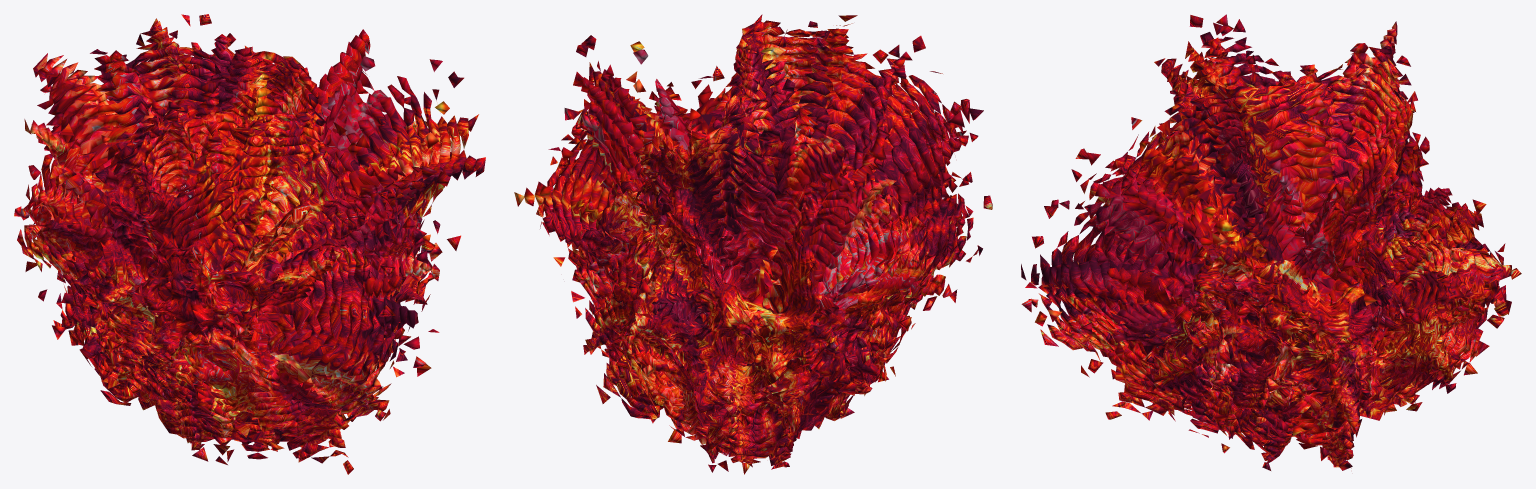
The model's file is Blood2.fbx.
3 renders of one model, left to right at view 1: azimuth 30°, elevation 25°; view 2: azimuth 150°, elevation 25°; view 3: azimuth 270°, elevation 25°, orthographic. The views are drawn at different scales.
Parts seen in each view (by area): view 1: LODGroup_1_MainMesh_13_SubMesh_1, LODGroup_1_MainMesh_12_SubMesh_1, LODGroup_1_MainMesh_14_SubMesh_1, LODGroup_1_MainMesh_11_SubMesh_1, LODGroup_1_MainMesh_15_SubMesh_1, LODGroup_1_MainMesh_10_SubMesh_1, LODGroup_1_MainMesh_9_SubMesh_1, LODGroup_1_MainMesh_16_SubMesh_1, LODGroup_1_MainMesh_8_SubMesh_1, LODGroup_1_MainMesh_17_SubMesh_1, LODGroup_1_MainMesh_7_SubMesh_1, LODGroup_1_MainMesh_6_SubMesh_1 (+3 smaller); view 2: LODGroup_1_MainMesh_13_SubMesh_1, LODGroup_1_MainMesh_14_SubMesh_1, LODGroup_1_MainMesh_12_SubMesh_1, LODGroup_1_MainMesh_15_SubMesh_1, LODGroup_1_MainMesh_11_SubMesh_1, LODGroup_1_MainMesh_10_SubMesh_1, LODGroup_1_MainMesh_9_SubMesh_1, LODGroup_1_MainMesh_16_SubMesh_1, LODGroup_1_MainMesh_8_SubMesh_1, LODGroup_1_MainMesh_17_SubMesh_1, LODGroup_1_MainMesh_7_SubMesh_1, LODGroup_1_MainMesh_18_SubMesh_1 (+2 smaller); view 3: LODGroup_1_MainMesh_13_SubMesh_1, LODGroup_1_MainMesh_14_SubMesh_1, LODGroup_1_MainMesh_12_SubMesh_1, LODGroup_1_MainMesh_15_SubMesh_1, LODGroup_1_MainMesh_11_SubMesh_1, LODGroup_1_MainMesh_10_SubMesh_1, LODGroup_1_MainMesh_16_SubMesh_1, LODGroup_1_MainMesh_9_SubMesh_1, LODGroup_1_MainMesh_17_SubMesh_1, LODGroup_1_MainMesh_8_SubMesh_1, LODGroup_1_MainMesh_7_SubMesh_1, LODGroup_1_MainMesh_18_SubMesh_1 (+1 smaller).
Part boxes in pixels (bbox=[...]): LODGroup_1_MainMesh_13_SubMesh_1: bbox=[28, 52, 441, 441]; LODGroup_1_MainMesh_12_SubMesh_1: bbox=[36, 61, 431, 436]; LODGroup_1_MainMesh_14_SubMesh_1: bbox=[20, 42, 450, 450]; LODGroup_1_MainMesh_11_SubMesh_1: bbox=[46, 66, 424, 431]; LODGroup_1_MainMesh_15_SubMesh_1: bbox=[14, 35, 460, 451]; LODGroup_1_MainMesh_10_SubMesh_1: bbox=[61, 73, 416, 425]; LODGroup_1_MainMesh_9_SubMesh_1: bbox=[63, 87, 413, 420]; LODGroup_1_MainMesh_16_SubMesh_1: bbox=[24, 14, 468, 459]; LODGroup_1_MainMesh_8_SubMesh_1: bbox=[78, 103, 401, 417]; LODGroup_1_MainMesh_17_SubMesh_1: bbox=[17, 21, 478, 464]; LODGroup_1_MainMesh_7_SubMesh_1: bbox=[79, 126, 378, 415]; LODGroup_1_MainMesh_6_SubMesh_1: bbox=[120, 146, 359, 389]; LODGroup_1_MainMesh_13_SubMesh_1: bbox=[560, 52, 952, 455]; LODGroup_1_MainMesh_14_SubMesh_1: bbox=[551, 44, 962, 462]; LODGroup_1_MainMesh_12_SubMesh_1: bbox=[570, 63, 940, 449]; LODGroup_1_MainMesh_15_SubMesh_1: bbox=[543, 34, 973, 467]; LODGroup_1_MainMesh_11_SubMesh_1: bbox=[579, 76, 933, 444]; LODGroup_1_MainMesh_10_SubMesh_1: bbox=[588, 88, 925, 440]; LODGroup_1_MainMesh_9_SubMesh_1: bbox=[596, 99, 917, 430]; LODGroup_1_MainMesh_16_SubMesh_1: bbox=[534, 26, 972, 474]; LODGroup_1_MainMesh_8_SubMesh_1: bbox=[614, 114, 905, 426]; LODGroup_1_MainMesh_17_SubMesh_1: bbox=[524, 20, 978, 472]; LODGroup_1_MainMesh_7_SubMesh_1: bbox=[641, 130, 888, 422]; LODGroup_1_MainMesh_18_SubMesh_1: bbox=[514, 14, 992, 433]; LODGroup_1_MainMesh_13_SubMesh_1: bbox=[1051, 53, 1488, 449]; LODGroup_1_MainMesh_14_SubMesh_1: bbox=[1038, 43, 1506, 460]; LODGroup_1_MainMesh_12_SubMesh_1: bbox=[1062, 63, 1479, 445]; LODGroup_1_MainMesh_15_SubMesh_1: bbox=[1031, 36, 1500, 460]; LODGroup_1_MainMesh_11_SubMesh_1: bbox=[1073, 74, 1476, 439]; LODGroup_1_MainMesh_10_SubMesh_1: bbox=[1084, 113, 1468, 438]; LODGroup_1_MainMesh_16_SubMesh_1: bbox=[1021, 19, 1508, 470]; LODGroup_1_MainMesh_9_SubMesh_1: bbox=[1102, 125, 1458, 430]; LODGroup_1_MainMesh_17_SubMesh_1: bbox=[1021, 14, 1511, 470]; LODGroup_1_MainMesh_8_SubMesh_1: bbox=[1117, 137, 1452, 424]; LODGroup_1_MainMesh_7_SubMesh_1: bbox=[1128, 152, 1445, 419]; LODGroup_1_MainMesh_18_SubMesh_1: bbox=[1051, 15, 1521, 468].
Bounding box in the file's own units: 20.47 × 18.56 × 22.4.
1 material, 1 textured.
